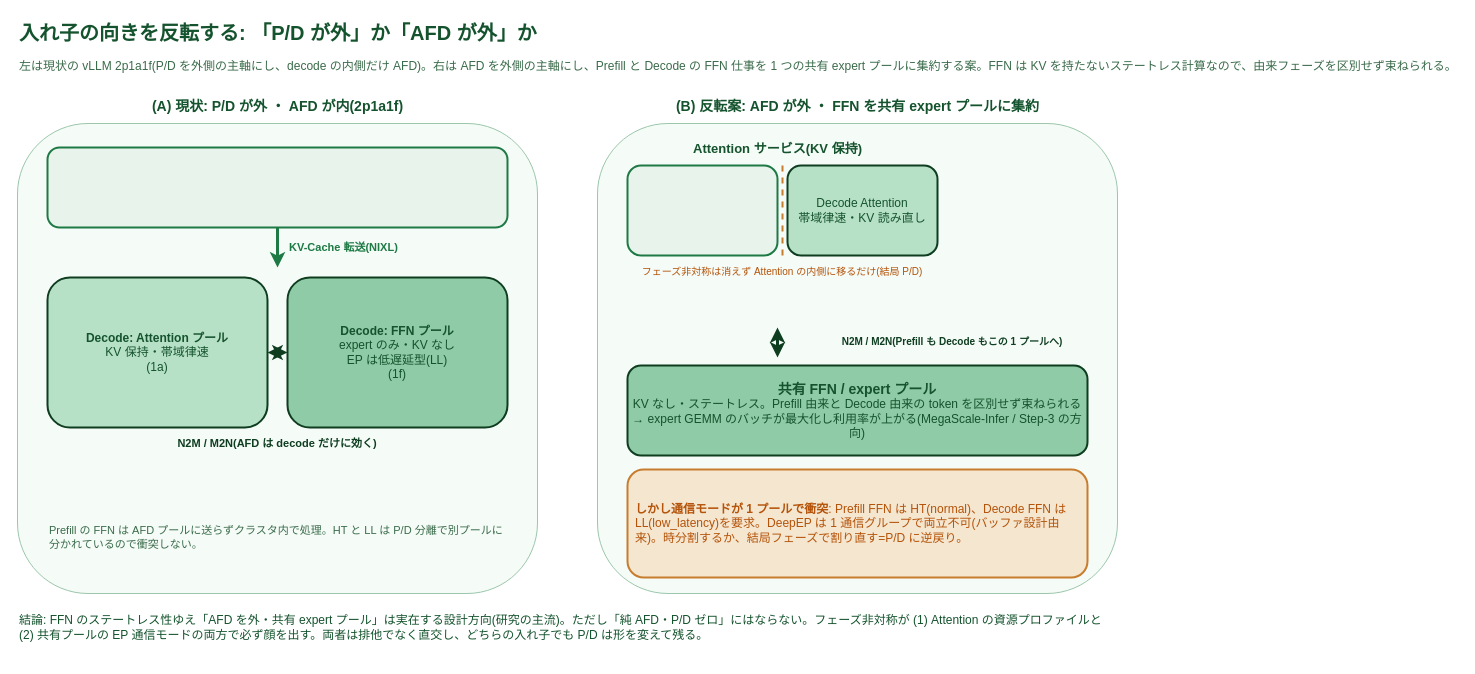
Some shapes in this 1475 by 674 pixel diagram are drawn without their labels. The shapes that lost their labels are listed below. From the top down, each one's centre as x and y in pixels, then its label:
At point (277, 187): "Prefill クラスタ attn と FFN を融合(AFD しない) EP は高スループット型(HT)".
At point (702, 210): "Prefill Attention 演算律速・全系列".
